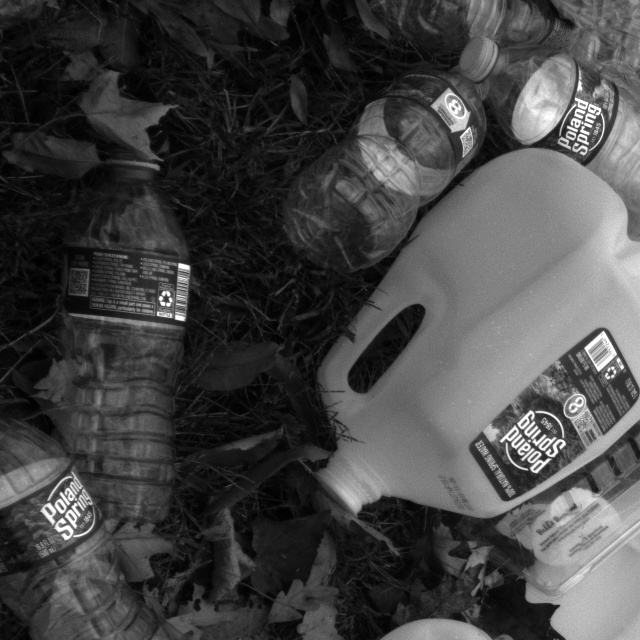bottle: (45, 144, 230, 555), (269, 48, 513, 264), (0, 445, 213, 640), (451, 24, 640, 226), (359, 0, 589, 100), (572, 0, 640, 89)
can: (279, 122, 640, 595), (510, 469, 640, 640)
container: (495, 364, 640, 576)
